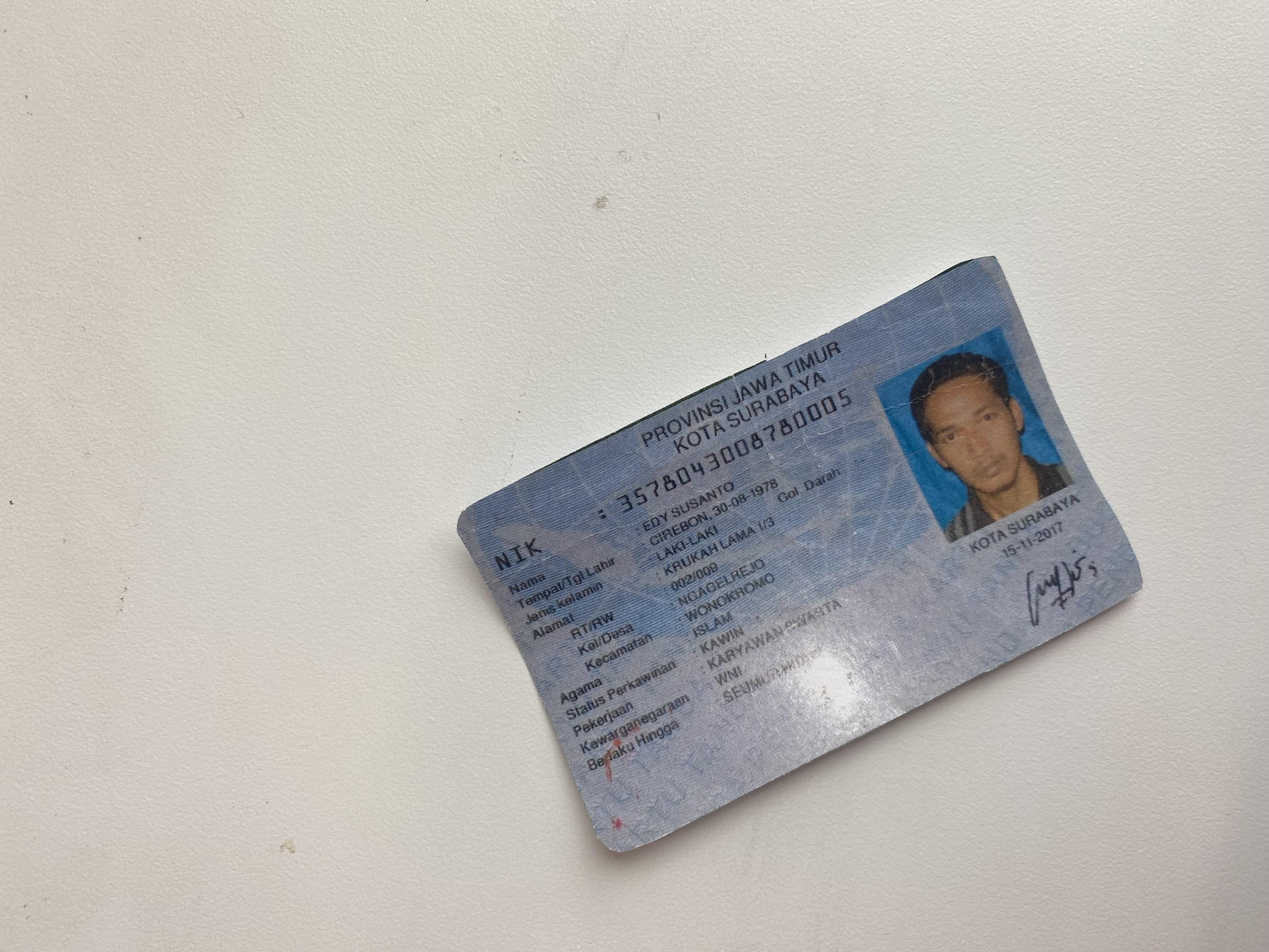ID-card: (103, 335, 931, 855)
